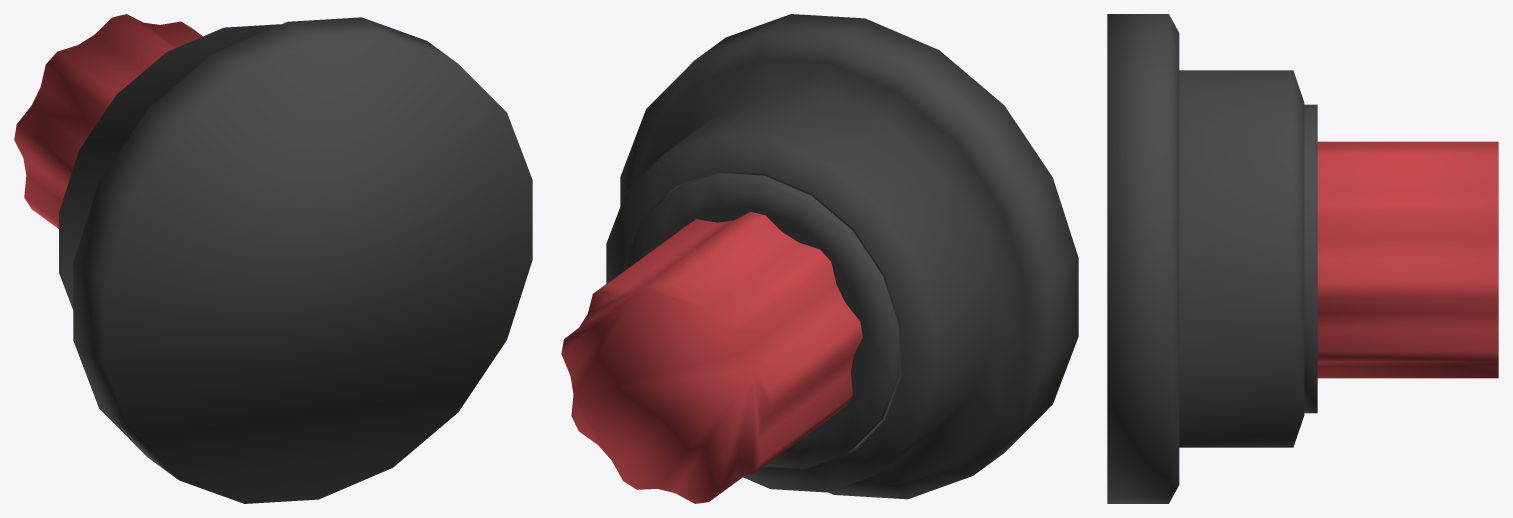
The model's file is dial.glb.
3 views of the same model, side by side, from view 1: azimuth 30°, elevation 25°; view 2: azimuth 150°, elevation 25°; view 3: azimuth 270°, elevation 25° (orthographic). The views are drawn at different scales.
Parts seen in each view (by area): view 1: dial.002, dial.003; view 2: dial.002, dial.003; view 3: dial.002, dial.003.
Part boxes in pixels (x1,y1,x2,y2): dial.002: [59, 17, 532, 503]; dial.003: [14, 14, 202, 228]; dial.002: [606, 14, 1078, 499]; dial.003: [561, 212, 862, 503]; dial.002: [1107, 14, 1317, 503]; dial.003: [1317, 141, 1498, 378].
Size of the model in its own units: 0.0928 by 0.0942 by 0.075.
